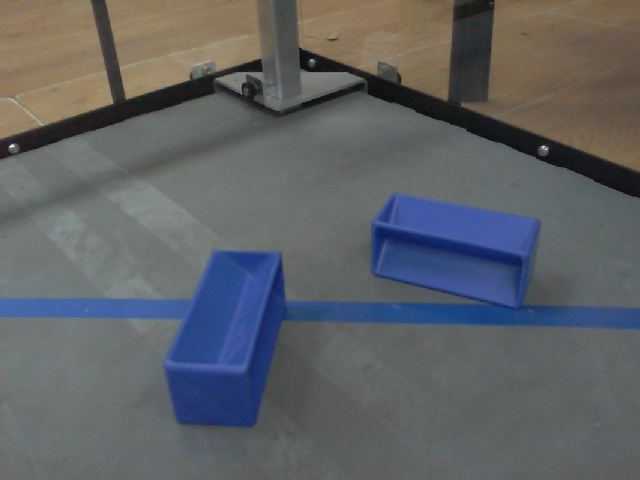BlueSample: (162, 244, 291, 428), (368, 191, 541, 308)
